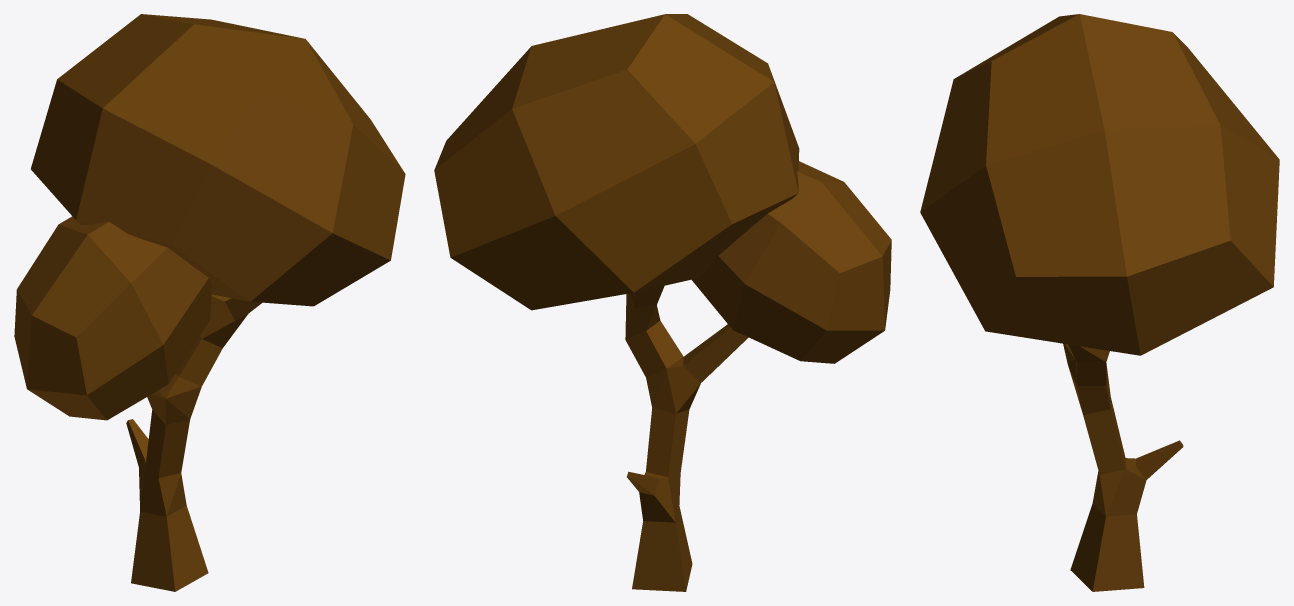
File: Sc_Arbol_2.fbx
3 views of the same model, side by side, from view 1: azimuth 30°, elevation 25°; view 2: azimuth 150°, elevation 25°; view 3: azimuth 270°, elevation 25° (orthographic). The views are drawn at different scales.
Visible parts, largest first — view 1: ArbolBosque.002; view 2: ArbolBosque.002; view 3: ArbolBosque.002.
Part boxes in pixels (x1,y1,x2,y2): ArbolBosque.002: [14, 14, 405, 591]; ArbolBosque.002: [434, 14, 891, 591]; ArbolBosque.002: [920, 14, 1279, 591].
Bounding box in the file's own units: 541 × 737 × 419.
